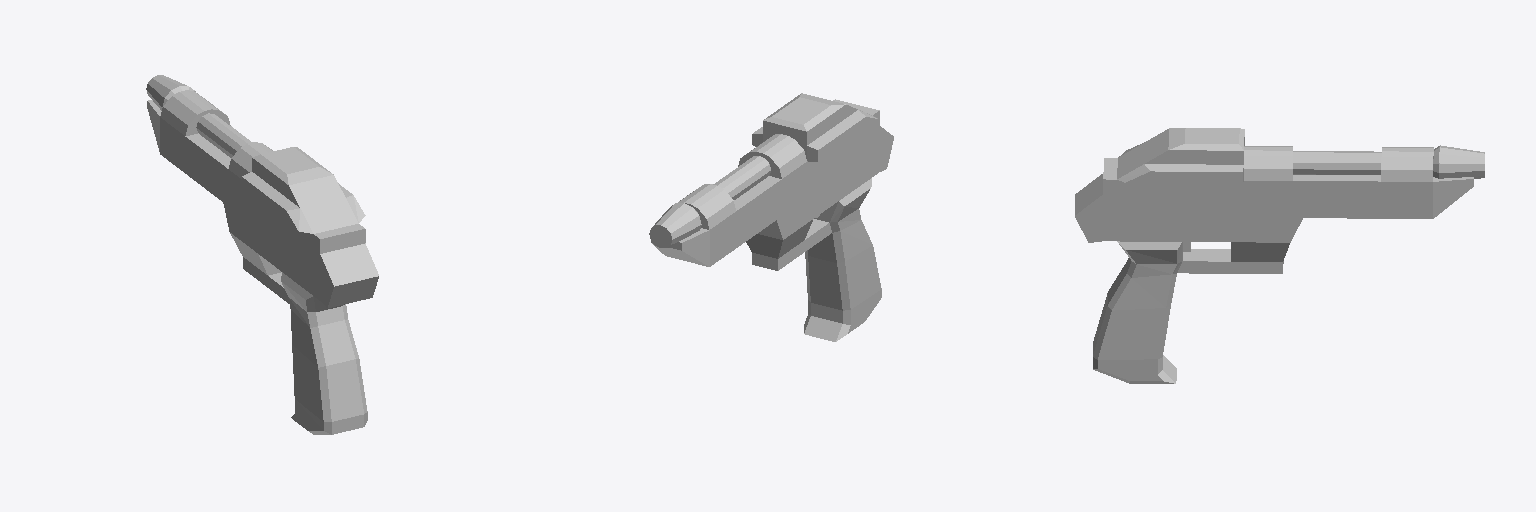
Rendered from laser.obj.
The picture shows the model from 3 angles: view 1: azimuth 30°, elevation 25°; view 2: azimuth 150°, elevation 25°; view 3: azimuth 270°, elevation 25°; orthographic projection.
Parts seen in each view (by area): view 1: main_Untitled; view 2: main_Untitled; view 3: main_Untitled.
Part boxes in pixels (x1,y1,x2,y2): main_Untitled: (146, 75, 378, 434); main_Untitled: (649, 93, 893, 341); main_Untitled: (1075, 128, 1484, 383).
Bounding box in the file's own units: 1.49 × 5.03 × 7.79.